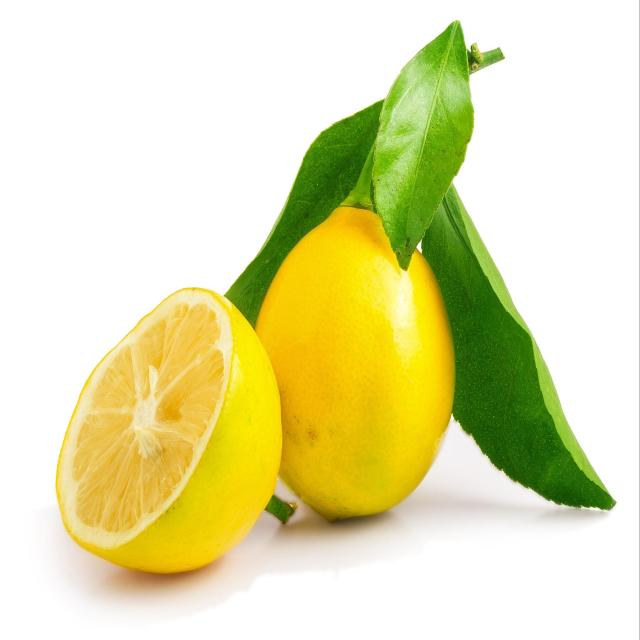lemon: (250, 195, 464, 530), (51, 283, 288, 581)
